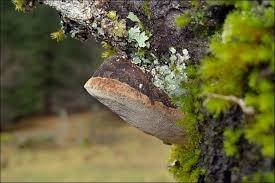Plum tinder fungus: (80, 40, 201, 150)
